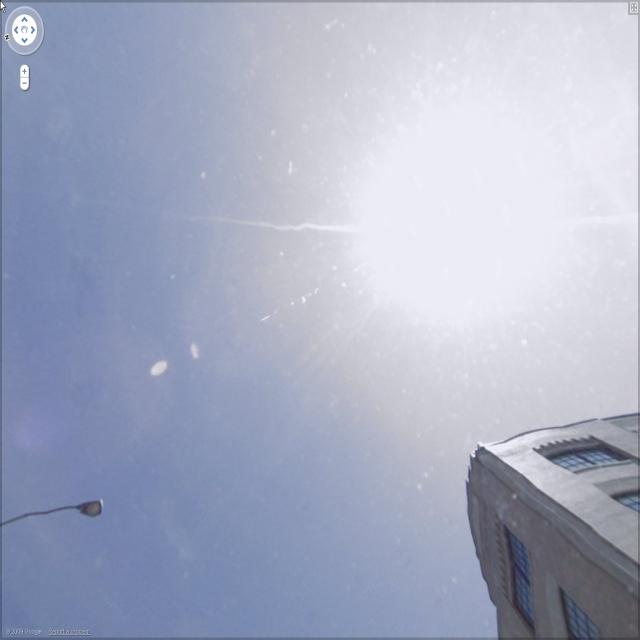b_1: (468, 420, 640, 631)
